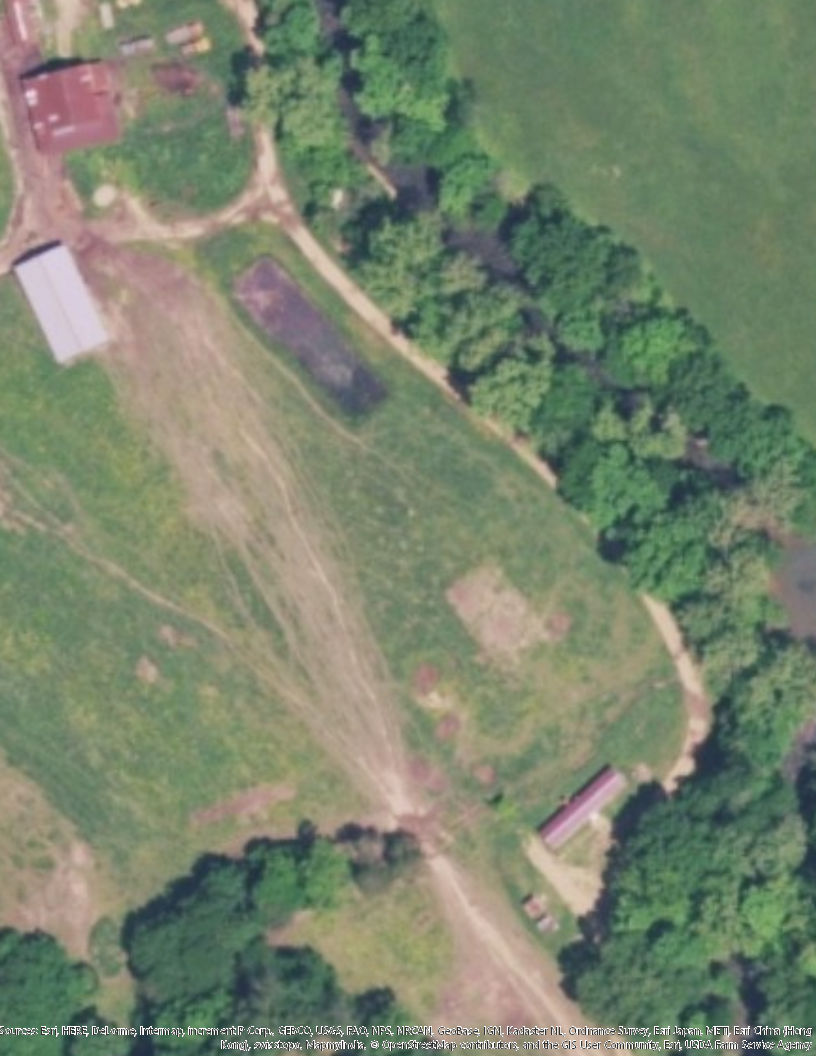cafo: (9, 238, 112, 374)
